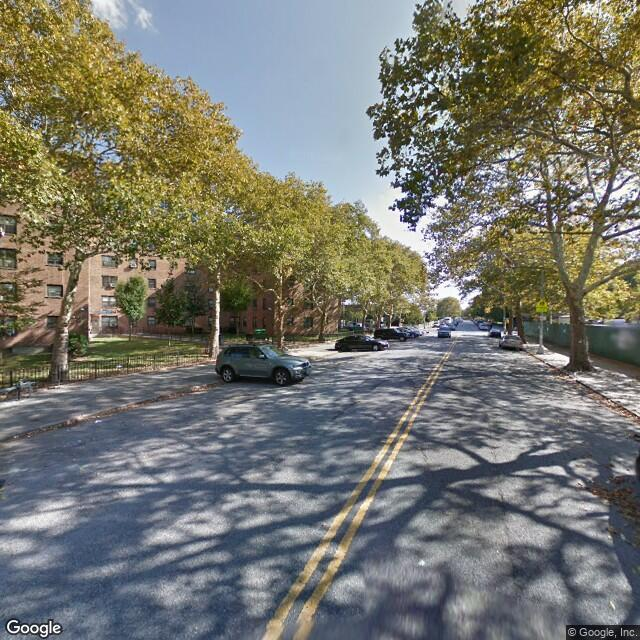litter: (114, 362, 123, 369), (93, 418, 102, 423)
